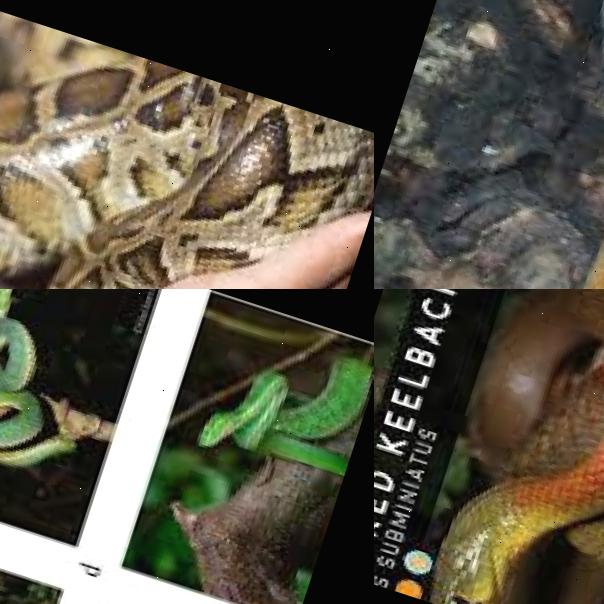snake: (0, 0, 374, 289), (403, 289, 604, 604), (458, 0, 604, 289)
